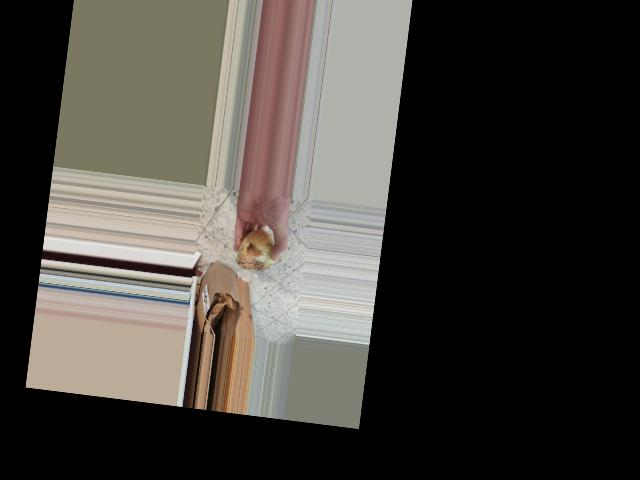onion: (235, 222, 286, 275)
